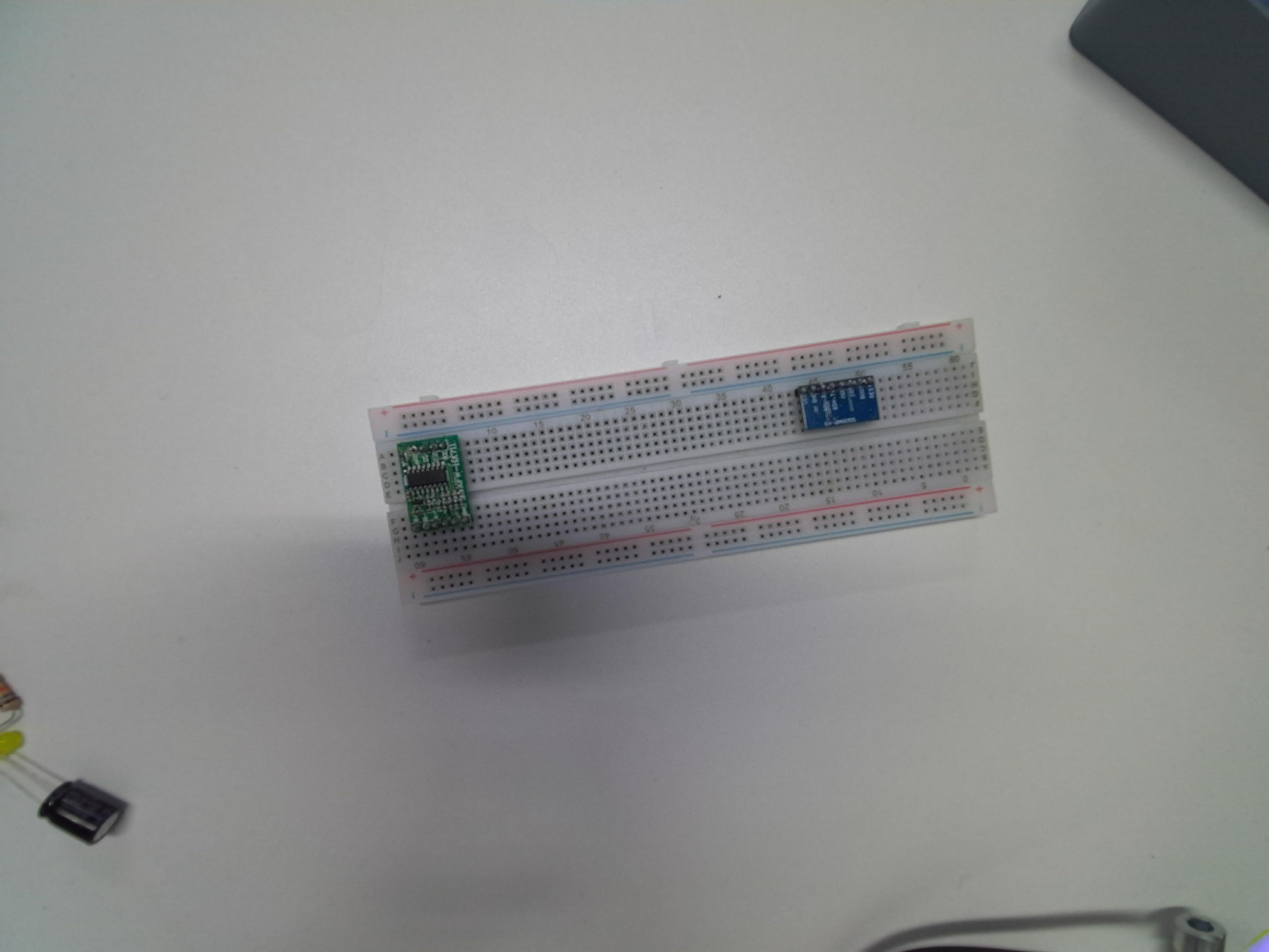base: (365, 318, 999, 608)
blue-board: (793, 374, 881, 435)
capacitor: (34, 775, 131, 848)
green-board: (394, 428, 475, 537)
resistor-big: (0, 673, 27, 722)
yellow-led: (0, 727, 33, 769)
